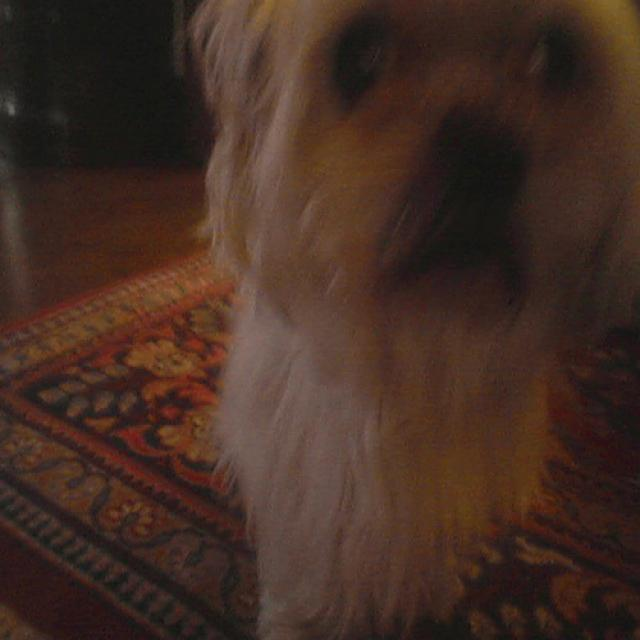Dog: (155, 0, 640, 628)
